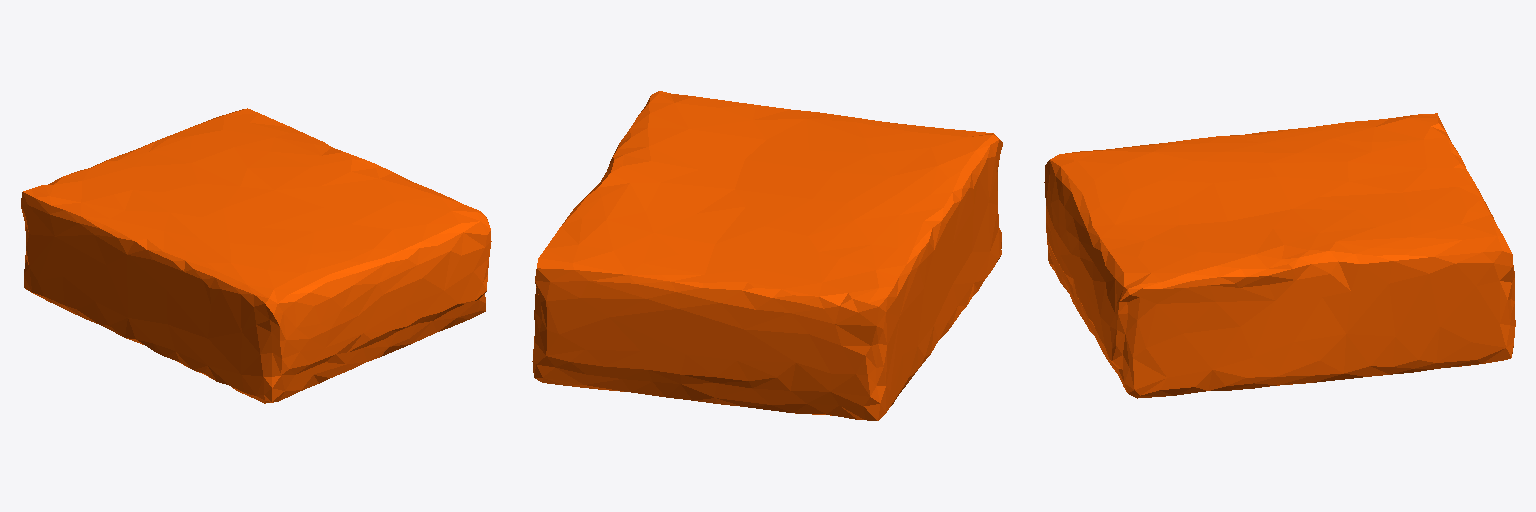
The robot description file, URDF, robot "009_gelatin_box":
<?xml version="1.0" ?>
<robot name="009_gelatin_box">
   <material name="obj_color">
      <color rgba="1.0 0.423529411765 0.0392156862745 1.0"/>
   </material>
   <link name="top">
      <inertial>
         <origin rpy="0.0001206201186472929 0.0001699616198342248 0.0002589895192397755" xyz="-0.001330391751264031 0.0008263114817348632 -0.004230279729426458"/>
         <mass value="0.24875"/>
         <inertia ixx="0.0001674508953281424" ixy="1.084352795551944e-05" ixz="3.048560373587943e-07" iyy="0.0001231346631297911" iyz="-6.504654273221112e-07" izz="0.0002589856992633597"/>
      </inertial>
      <visual>
         <origin rpy="0 0 0" xyz="0 0 0"/>
         <geometry>
            <mesh filename="top_watertight_tiny.stl" scale="1 1 1"/>
         </geometry>
         <material name="obj_color"/>
      </visual>
      <collision>
         <origin rpy="0 0 0" xyz="0 0 0"/>
         <geometry>
            <mesh filename="top_watertight_tiny.obj" scale="1 1 1"/>
         </geometry>
      </collision>
   </link>
   <link name="bottom">
      <inertial>
         <origin rpy="1.633333333199431e-08 1.633333333199431e-08 1.633333333362855e-08" xyz="0.3464080000000008 0.3464080000000008 0.3464080000000008"/>
         <mass value="0.0009800000000000017"/>
         <inertia ixx="1.633333333253906e-08" ixy="5.447480642029219e-19" ixz="5.447480642029219e-19" iyy="1.633333333253906e-08" iyz="5.447480642029219e-19" izz="1.633333333253906e-08"/>
      </inertial>
      <visual>
         <origin rpy="0 0 0" xyz="0 0 0"/>
         <geometry>
            <mesh filename="bottom_watertight_tiny.stl" scale="1 1 1"/>
         </geometry>
         <material name="obj_color"/>
      </visual>
   </link>
   <joint name="rotation" type="revolute">
      <origin xyz="0 0 0"/>
      <axis xyz="0 0 -1"/>
      <parent link="bottom"/>
      <child link="top"/>
      <dynamics damping="1.0" friction="1.0"/>
      <limit effort="0.1" velocity="0.1" lower="0" upper="0.001"/>
   </joint>
</robot>

--- Facts derived from the render (not from the file) ---
3 views of the same robot in one strip: view 1: azimuth 30°, elevation 25°; view 2: azimuth 150°, elevation 25°; view 3: azimuth 270°, elevation 25° (orthographic).
Model 009_gelatin_box with 2 links and 1 joints (1 revolute), rooted at bottom, posed every joint at zero.
Links seen in each view (by area): view 1: top; view 2: top; view 3: top.
Link boxes in pixels (x1,y1,x2,y2): top: (21,108,491,403); top: (532,91,1002,420); top: (1044,113,1515,398).
Bounding box of the posed robot: 0.0891 × 0.1007 × 0.0297 m (x, y, z).
1 mesh visuals loaded from 2 distinct referenced files (1 binary STL); not drawn: 1 (reference not matched to a file when rendering).